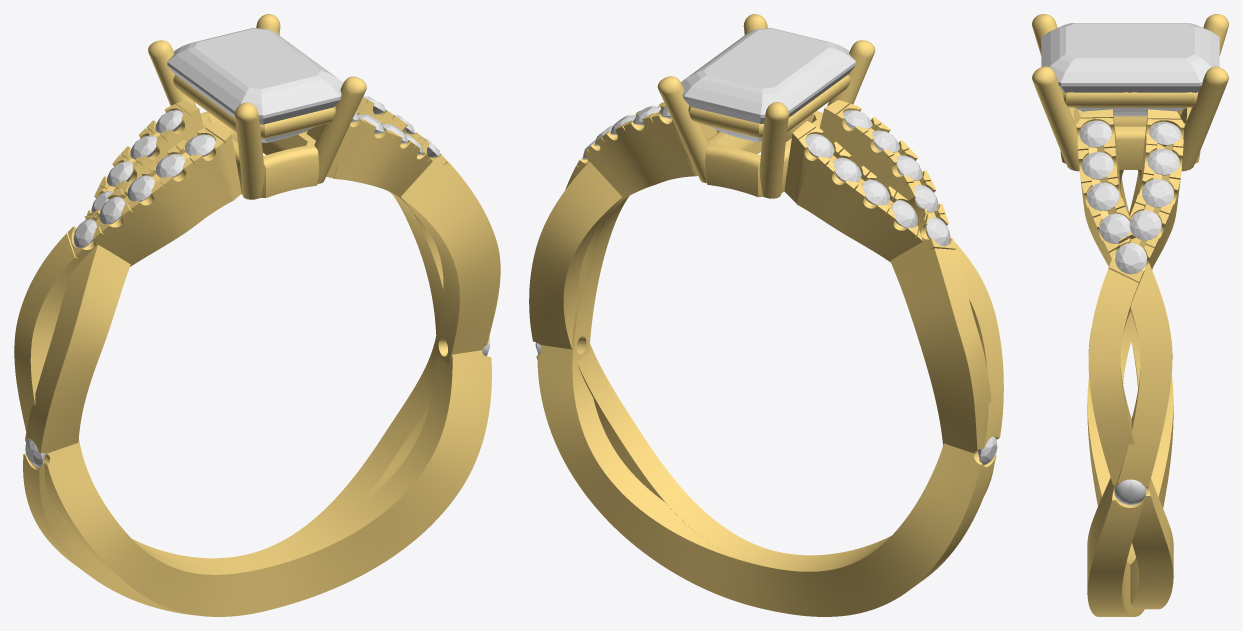
Rendered from diamond-emerald-yellowgold-4prong-twist-sidestones.glb.
The picture shows the model from 3 angles, left to right: view 1: azimuth 30°, elevation 25°; view 2: azimuth 150°, elevation 25°; view 3: azimuth 270°, elevation 25°; orthographic projection.
Parts seen in each view (by area): view 1: metal, stone; view 2: metal, stone; view 3: metal, stone, side.015, side.016, side.017, side.012, side.011, side.013, side.014, side.018, side.010, side.019.
Boxes of the visible parts, x1,y1,x2,y2 form: metal: (14,14,500,616); stone: (167,27,343,142); metal: (529,14,1003,616); stone: (681,27,855,142); metal: (1032,14,1228,616); stone: (1041,23,1219,116); side.015: (1115,243,1146,274); side.016: (1129,210,1161,240); side.017: (1142,179,1173,207); side.012: (1087,182,1118,210); side.011: (1099,213,1130,243); side.013: (1082,152,1113,179); side.014: (1080,120,1111,147); side.018: (1147,149,1179,175); side.010: (1114,479,1146,505); side.019: (1149,122,1180,145).
Bounding box in the file's own units: 19.97 × 22.74 × 7.4.
